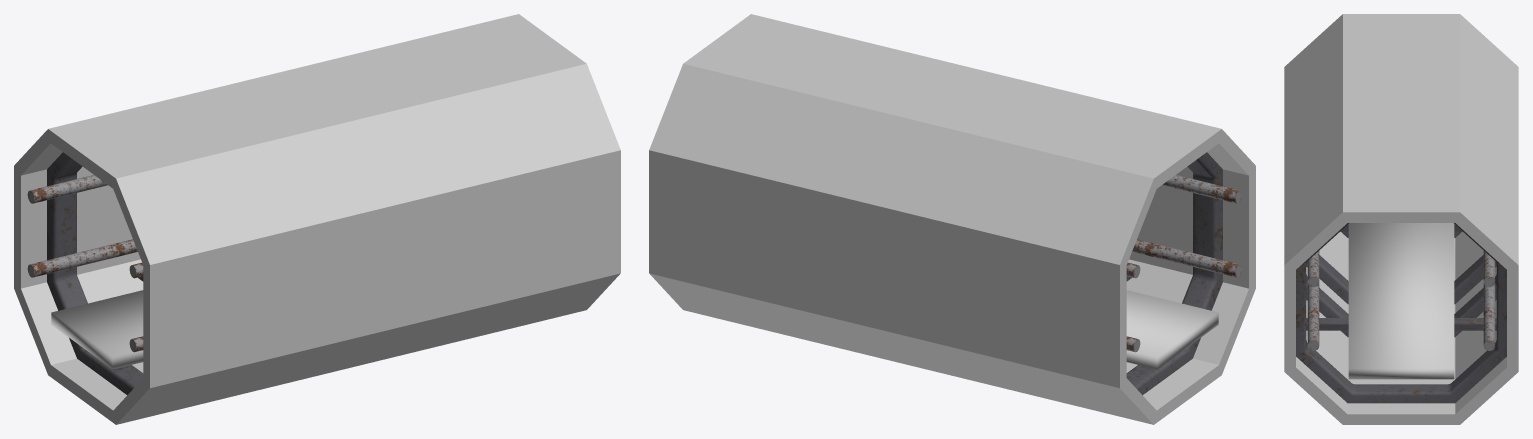
File: ProcGen_StraightNEW.fbx
3 views of the same model, side by side, from view 1: azimuth 30°, elevation 25°; view 2: azimuth 150°, elevation 25°; view 3: azimuth 270°, elevation 25° (orthographic). The views are drawn at different scales.
Parts seen in each view (by area): view 1: Straight_Tunnel, Platform; view 2: Straight_Tunnel, Platform; view 3: Straight_Tunnel, Platform.
Boxes of the visible parts, box(x1,y1,x2,y2) form: Straight_Tunnel: box(14, 14, 620, 424); Platform: box(51, 290, 143, 369); Straight_Tunnel: box(649, 14, 1255, 424); Platform: box(1126, 290, 1218, 369); Straight_Tunnel: box(1284, 14, 1518, 424); Platform: box(1348, 223, 1454, 379).
Bounding box in the file's own units: 1000 × 500 × 500.
